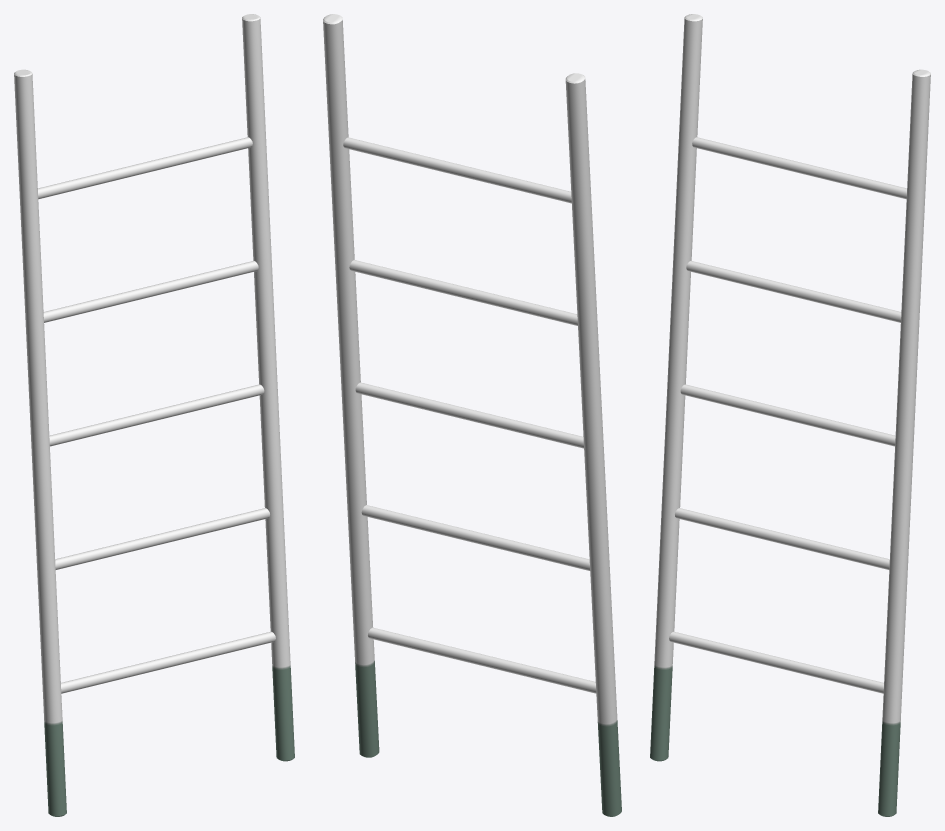
File: ladder.gltf
3 views of the same model, side by side, from view 1: azimuth 30°, elevation 25°; view 2: azimuth 150°, elevation 25°; view 3: azimuth 330°, elevation 25° (orthographic). The views are drawn at different scales.
Parts seen in each view (by area): view 1: ladder; view 2: ladder; view 3: ladder.
Part boxes in pixels (<box>): ladder: <box>14,14,294,816</box>; ladder: <box>323,14,621,816</box>; ladder: <box>650,14,930,816</box>.
Bounding box in the file's own units: 0.5533 × 1.56 × 0.1729.
1 material, 1 textured.
